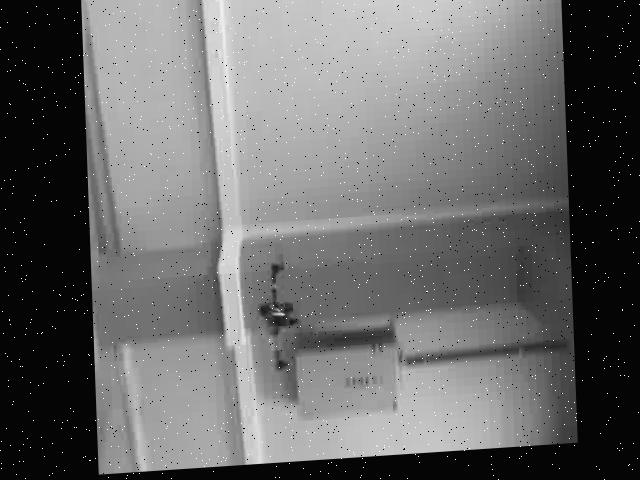drone: (228, 239, 323, 397)
